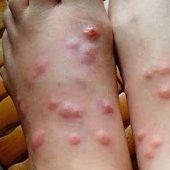Fleas: (23, 126, 49, 152), (92, 127, 115, 149), (98, 99, 121, 116), (12, 95, 28, 118), (60, 103, 83, 118), (31, 59, 46, 77), (65, 132, 81, 146), (83, 27, 99, 40), (83, 47, 95, 64), (66, 37, 80, 49), (134, 129, 145, 142), (48, 97, 59, 109), (158, 86, 169, 98), (143, 148, 155, 159), (156, 68, 169, 77), (144, 71, 152, 81), (154, 140, 162, 148)
